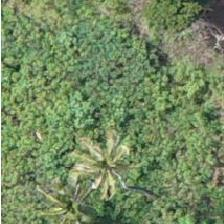coconut_tree: (56, 126, 146, 216), (20, 168, 110, 223)
